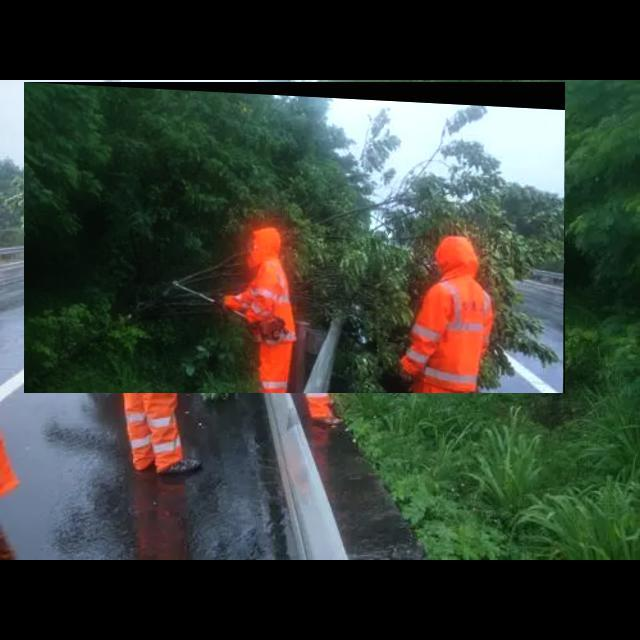fallen_tree: (24, 82, 566, 394)
